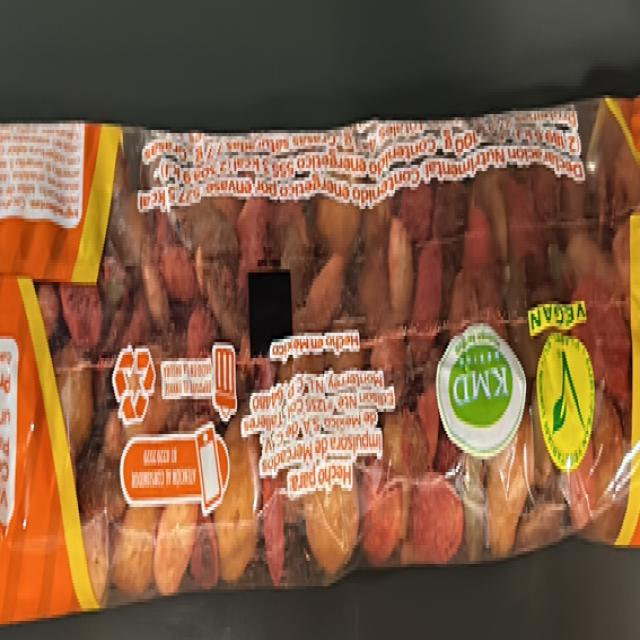bitzEnchilado95: (3, 127, 640, 542)
